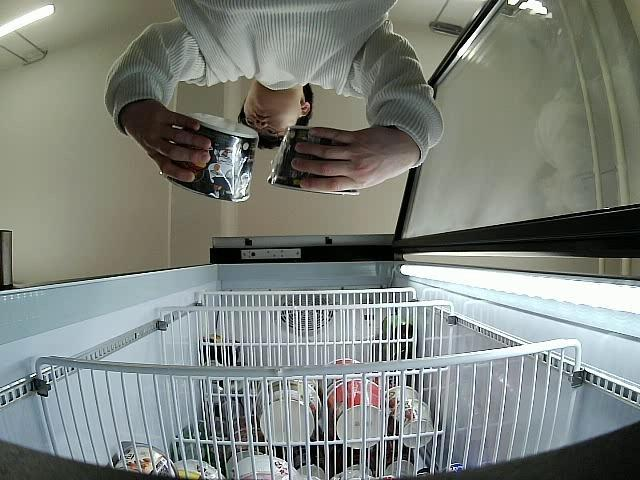07_buldak_L: (159, 111, 258, 205), (268, 125, 362, 196)
